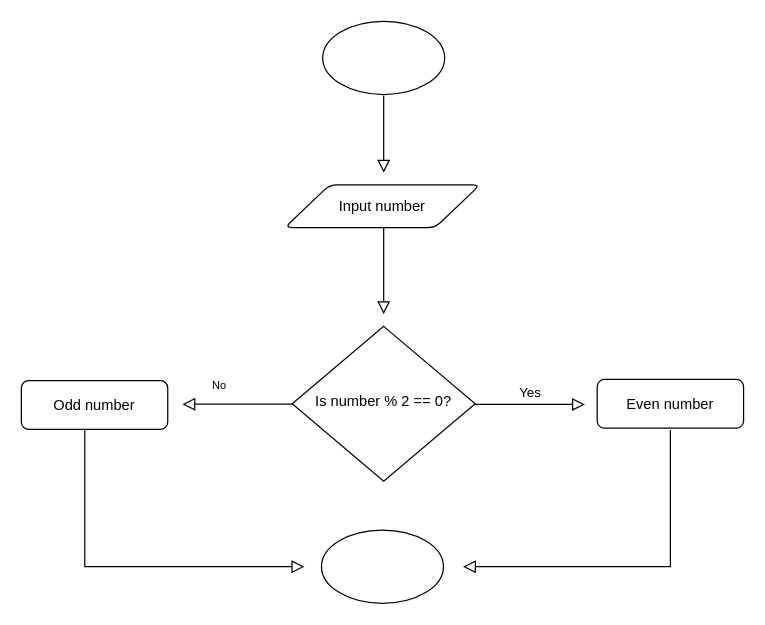
This 765x625 diagram has some shape labels left out. Each missing label, with the centre of its shape:
"End" belongs at (x=381, y=566).
"Start" belongs at (x=383, y=57).
